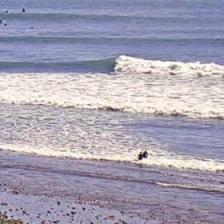surfer: (28, 26, 34, 30), (22, 8, 26, 12), (4, 23, 7, 26), (6, 10, 8, 13), (1, 20, 2, 22)
